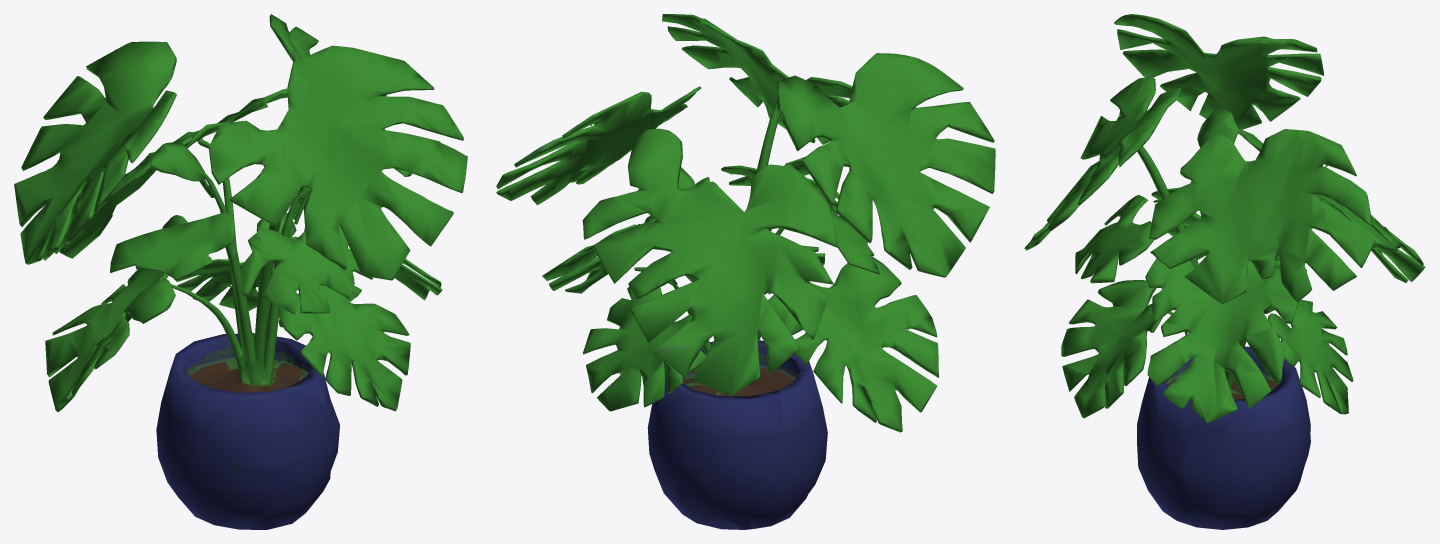
The model's file is plant.glb.
The picture shows the model from 3 angles, left to right: view 1: azimuth 30°, elevation 25°; view 2: azimuth 150°, elevation 25°; view 3: azimuth 270°, elevation 25°; orthographic projection. The views are drawn at different scales.
Visible parts, largest first — view 1: Mesh_0; view 2: Mesh_0; view 3: Mesh_0.
Boxes of the visible parts, x1,y1,x2,y2 form: Mesh_0: (14,14,467,529); Mesh_0: (496,14,995,529); Mesh_0: (1024,14,1425,529).
Size of the model in its own units: 1.73 by 1.91 by 1.59.
1 material, 1 textured.
